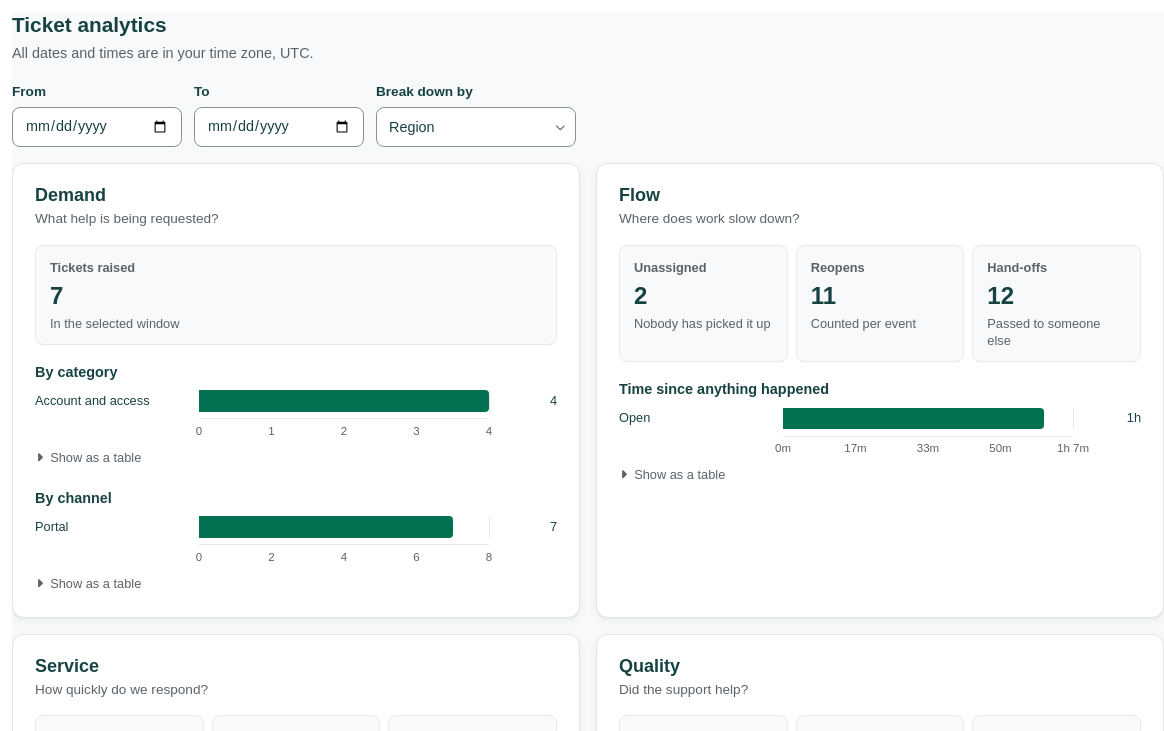
it: TicketAnalyticsPage › sends the dates exactly as picked and echoes them back with no date ambiguity
Type "2026-08-26" into the date field with id "ticket-analytics-from" at (97, 127), box [12, 107, 182, 147]
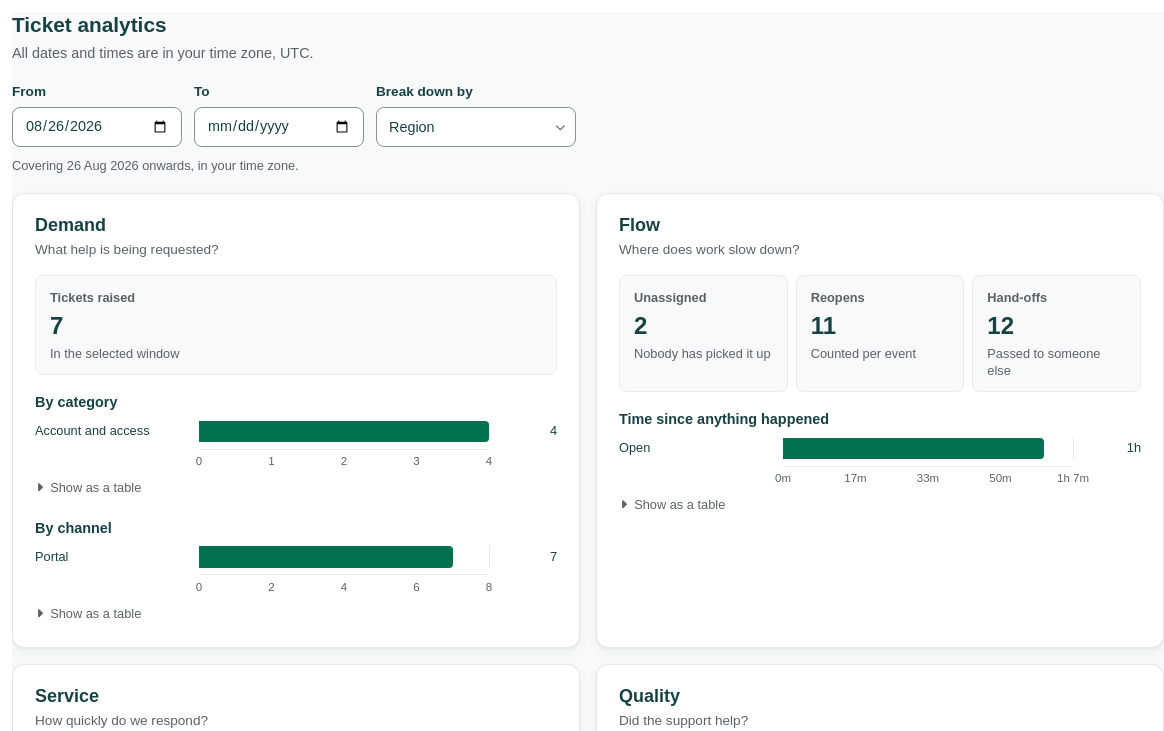
Expected: the text with class "ticket-analytics__window" reads "Covering 26 Aug 2026 onwards, in your time zone.", [12, 158, 299, 173]
Type "2026-09-03" into the date field with id "ticket-analytics-to" at (279, 127), box [194, 107, 364, 147]
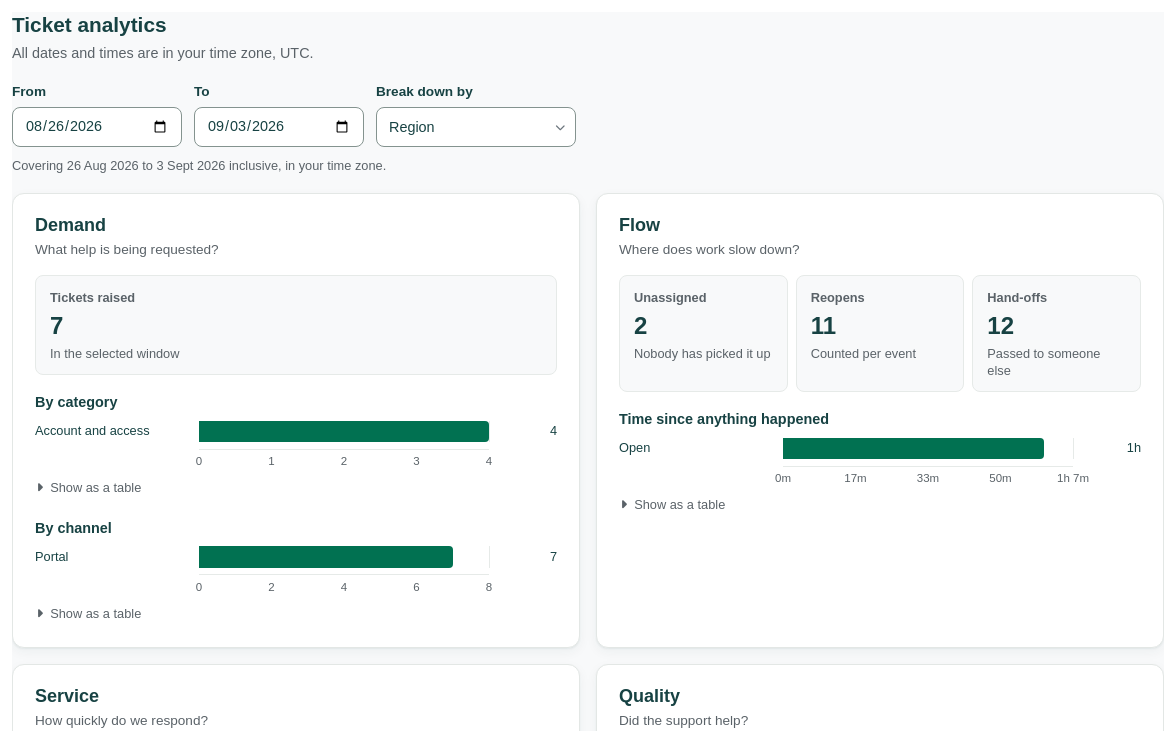
Expected: the text with class "ticket-analytics__window" reads "Covering 26 Aug 2026 to 3 Sept 2026 inclusive, in your time zone.", [12, 158, 386, 173]
Clear the date field with id "ticket-analytics-from" at (97, 127), box [12, 107, 182, 147]
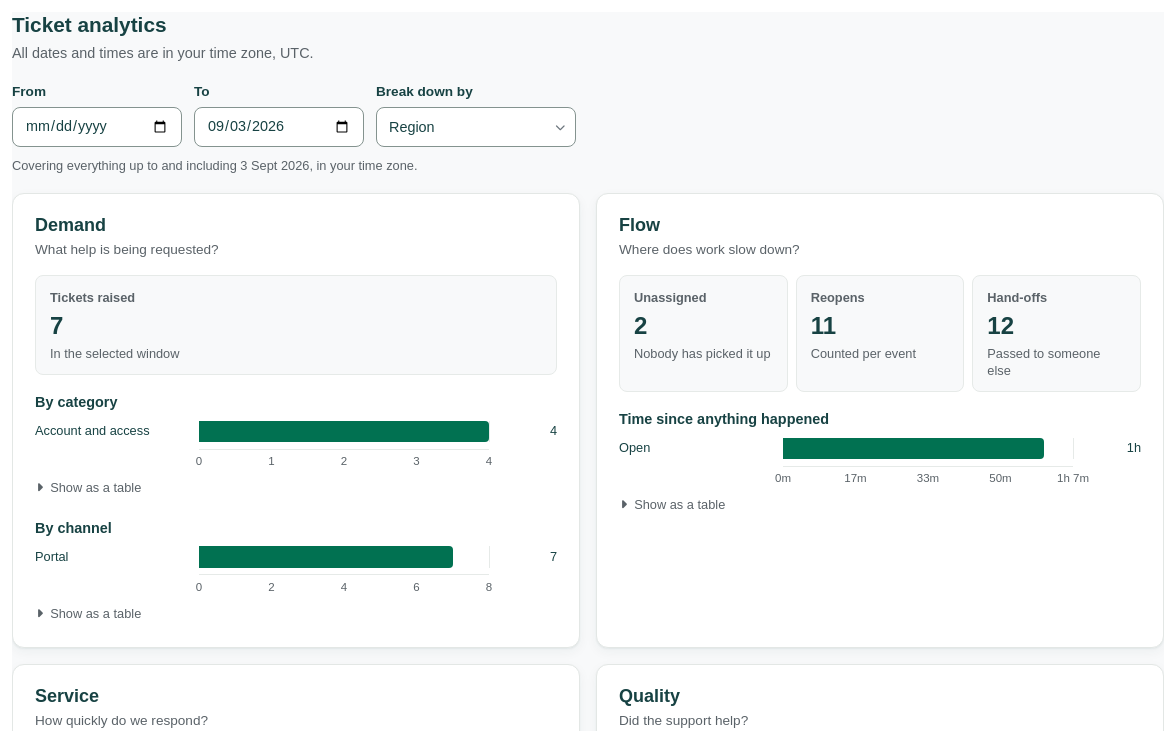
Expected: the text with class "ticket-analytics__window" reads "Covering everything up to and including 3 Sept 2026, in your time zone.", [12, 158, 418, 173]
